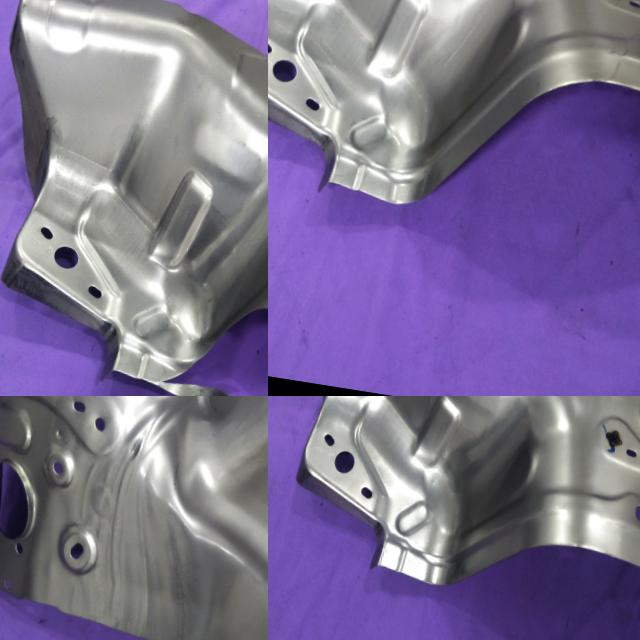Defect: (151, 264, 268, 396)
Healthy: (268, 0, 640, 263), (268, 396, 640, 634)
